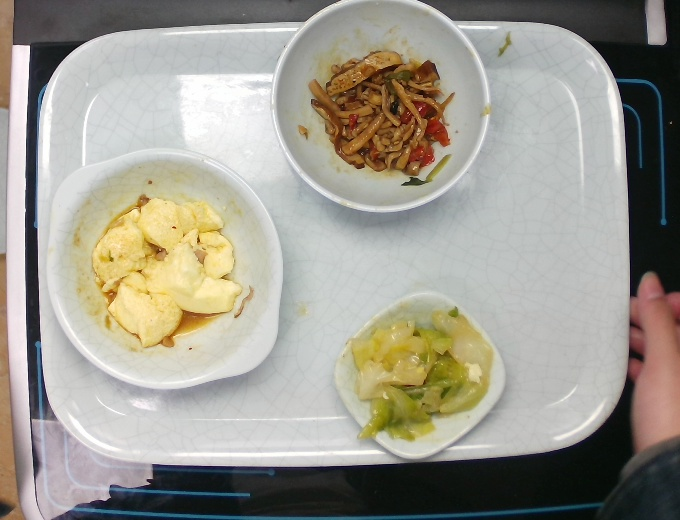JYsf-Fan_Wan: (270, 1, 497, 222)
JYsf-Shuang_Er_Wan: (44, 142, 294, 404)
JYsf-Si_Fang_Die: (321, 286, 514, 465)
